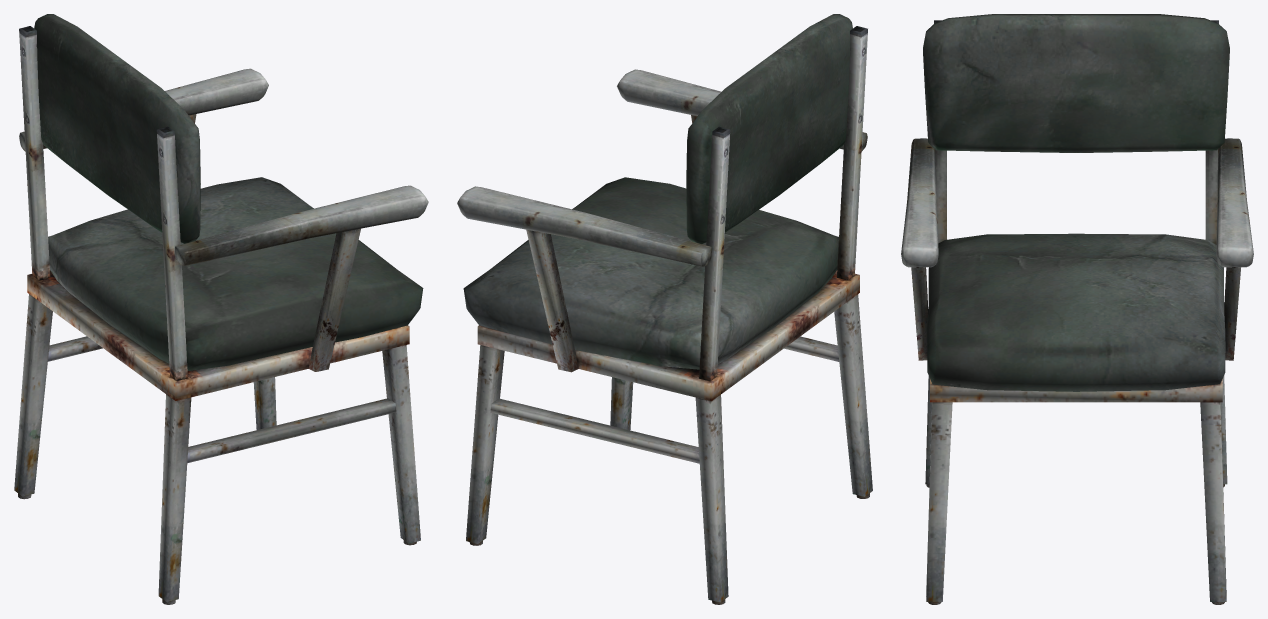
File: SM_Chair_Metal_Guest.obj
3 renders of one model, left to right at view 1: azimuth 30°, elevation 25°; view 2: azimuth 150°, elevation 25°; view 3: azimuth 270°, elevation 25°, orthographic.
Visible parts, largest first — view 1: SM_Chair_Metal_Guest; view 2: SM_Chair_Metal_Guest; view 3: SM_Chair_Metal_Guest.
Boxes of the visible parts, x1=… form: SM_Chair_Metal_Guest: x1=14, y1=14, x2=428, y2=604; SM_Chair_Metal_Guest: x1=457, y1=14, x2=872, y2=604; SM_Chair_Metal_Guest: x1=901, y1=14, x2=1253, y2=604.
Size of the model in its own units: 48 by 84 by 56.
Materials: 1 (1 with a texture image).
